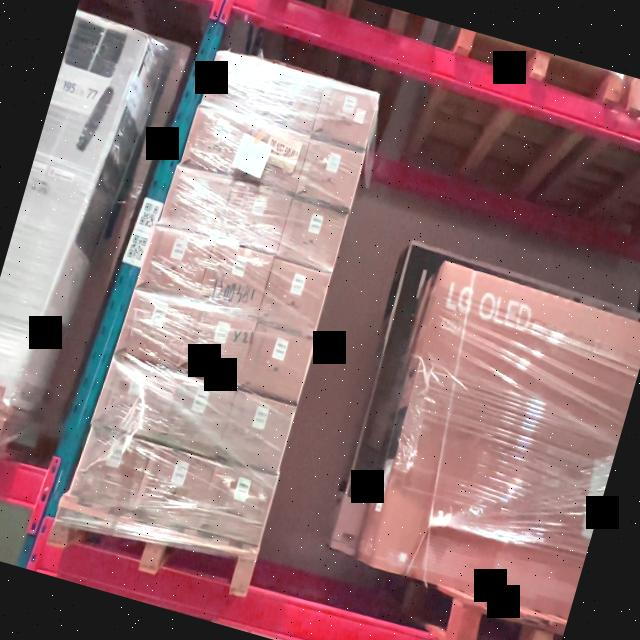box: (196, 459, 277, 548), (217, 390, 296, 478), (134, 444, 215, 528), (74, 426, 152, 509), (238, 322, 316, 404), (177, 304, 256, 384), (94, 356, 171, 438), (156, 374, 233, 456), (197, 238, 274, 318), (118, 286, 194, 366), (138, 222, 214, 298), (257, 258, 330, 336), (218, 180, 291, 253), (160, 164, 232, 238), (236, 121, 308, 194), (275, 198, 346, 272), (182, 106, 252, 177), (256, 65, 326, 136), (294, 138, 362, 210), (312, 79, 379, 151), (202, 49, 270, 117)
